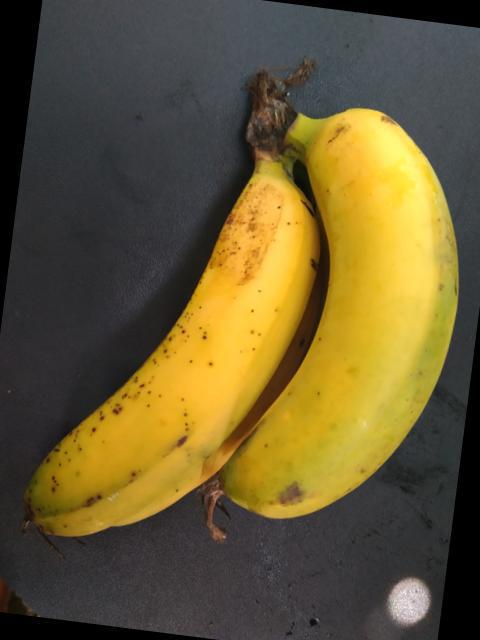freshripe: (278, 101, 468, 568)
ripe: (16, 159, 302, 549)
